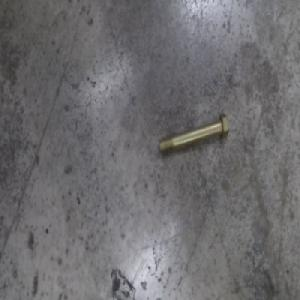Bolt: (158, 111, 228, 157)
